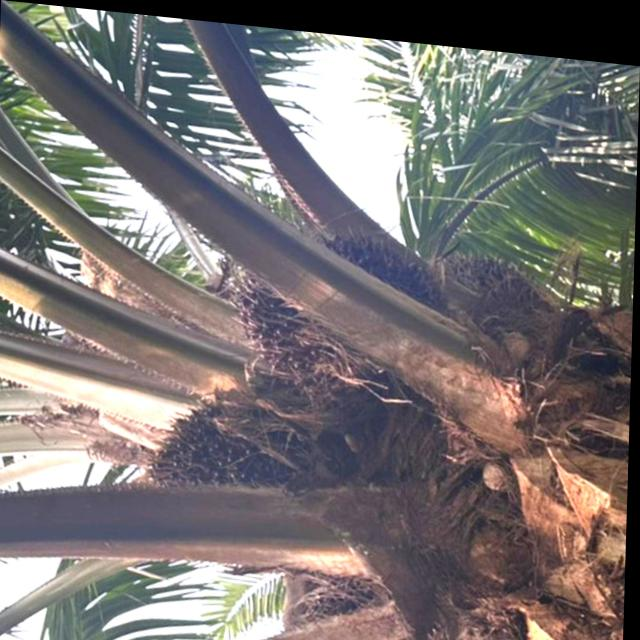ripe: (207, 200, 456, 408)
